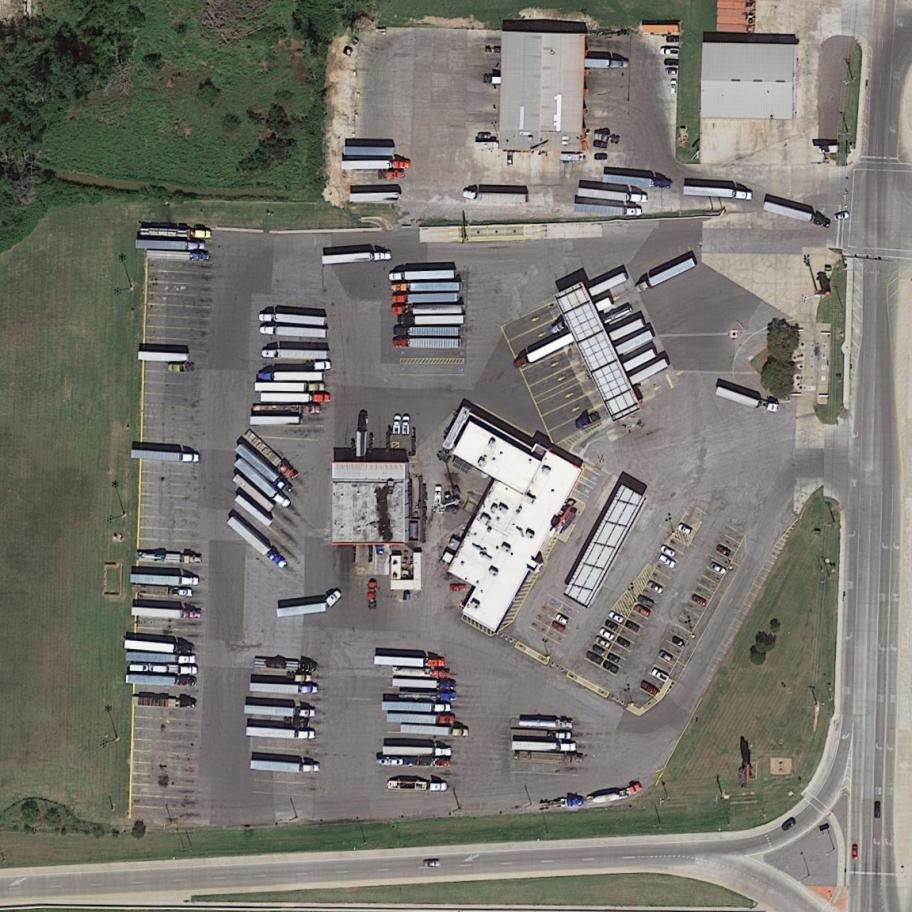large-vehicle: (226, 515, 289, 570), (273, 586, 349, 626), (242, 429, 300, 481), (233, 458, 292, 509), (235, 445, 293, 494), (551, 297, 613, 338), (513, 332, 577, 370), (635, 257, 696, 295), (763, 200, 833, 226), (715, 386, 779, 412), (620, 358, 670, 391), (586, 780, 643, 808), (607, 329, 654, 362), (612, 347, 659, 380), (581, 272, 628, 302), (599, 318, 647, 347), (124, 639, 194, 656), (322, 250, 393, 265), (126, 673, 196, 688), (250, 759, 319, 774), (578, 188, 650, 202), (244, 704, 315, 718), (682, 186, 753, 200), (132, 449, 200, 463), (603, 175, 671, 189), (250, 682, 319, 695), (258, 313, 326, 326), (464, 190, 527, 204), (401, 725, 468, 738), (255, 658, 317, 672), (389, 269, 455, 282), (375, 656, 446, 668), (130, 574, 200, 586), (137, 552, 201, 565), (513, 752, 582, 764), (136, 240, 205, 252), (126, 652, 195, 664), (573, 204, 642, 216), (393, 678, 456, 691), (130, 664, 198, 676), (377, 757, 451, 768), (139, 228, 213, 239), (260, 326, 327, 338), (391, 293, 458, 305), (391, 305, 463, 316), (254, 381, 325, 392), (132, 607, 202, 618), (246, 728, 316, 739), (540, 795, 585, 812), (392, 281, 461, 292), (132, 696, 195, 708), (512, 729, 570, 742), (253, 404, 320, 415), (394, 338, 460, 349), (382, 702, 452, 712), (147, 250, 210, 261), (387, 714, 456, 724), (383, 746, 452, 756), (342, 160, 411, 170), (512, 741, 577, 751), (261, 350, 326, 360), (399, 690, 458, 701), (400, 315, 464, 325), (261, 393, 331, 402), (257, 372, 324, 381), (388, 781, 447, 791), (395, 327, 460, 336), (355, 413, 367, 461), (393, 668, 450, 678), (250, 415, 300, 426), (135, 587, 194, 596), (519, 719, 572, 729), (585, 58, 628, 68), (485, 76, 521, 84), (560, 153, 587, 162)
small-vehicle: (639, 679, 661, 699), (632, 603, 652, 621), (651, 668, 672, 685), (658, 554, 678, 571), (646, 579, 666, 596), (636, 593, 656, 610), (593, 634, 613, 651), (585, 650, 605, 667), (602, 617, 620, 635), (780, 816, 799, 833), (657, 648, 675, 665), (598, 627, 617, 643), (601, 659, 620, 675), (709, 561, 728, 577), (624, 618, 642, 634), (691, 593, 710, 608), (714, 543, 733, 558), (609, 610, 626, 626), (615, 634, 632, 650), (660, 544, 678, 559), (591, 644, 608, 659), (593, 131, 612, 144), (605, 651, 621, 666), (555, 612, 571, 627), (550, 620, 567, 634), (677, 523, 693, 537), (834, 209, 851, 222), (660, 47, 680, 57), (663, 58, 681, 68), (592, 140, 609, 150), (665, 67, 680, 78), (423, 859, 441, 868), (874, 801, 882, 819), (450, 584, 468, 592), (670, 80, 678, 97), (506, 151, 514, 168), (852, 845, 859, 861), (477, 132, 491, 140), (594, 153, 608, 161), (666, 36, 680, 44)
